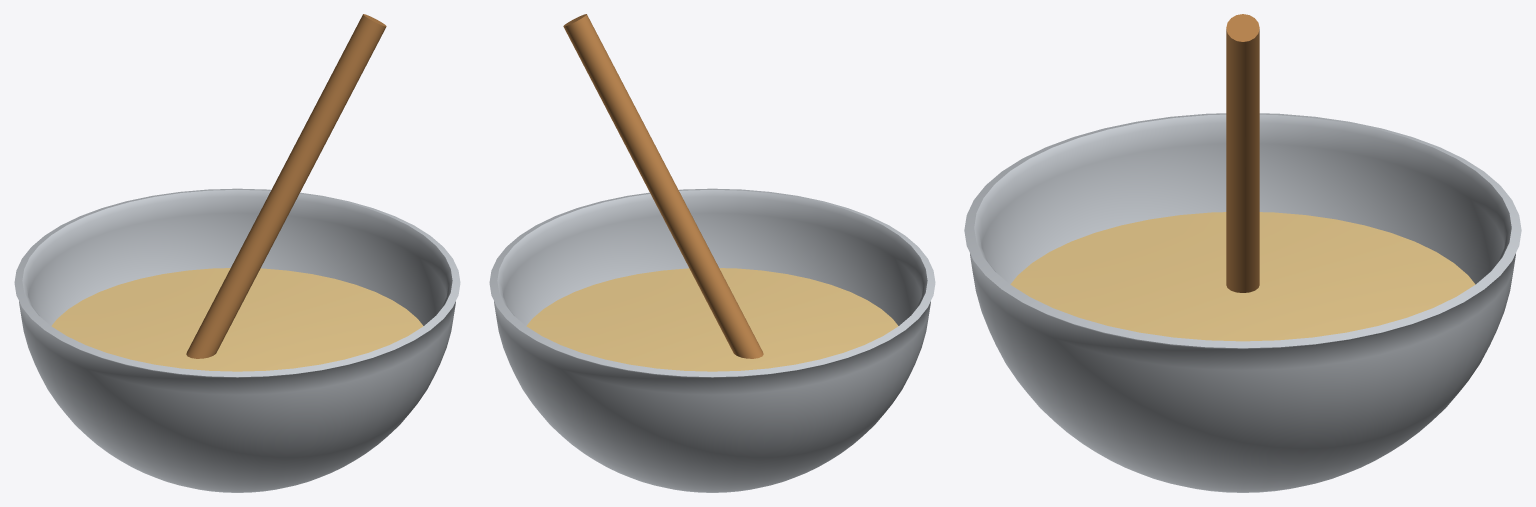
The model's file is Crepe_Batter_Bowl.fbx.
The picture shows the model from 3 angles, left to right: view 1: azimuth 30°, elevation 25°; view 2: azimuth 150°, elevation 25°; view 3: azimuth 270°, elevation 25°; orthographic projection. The views are drawn at different scales.
Parts seen in each view (by area): view 1: Crepe_Batter_Bowl; view 2: Crepe_Batter_Bowl; view 3: Crepe_Batter_Bowl.
Boxes of the visible parts, x1=… form: Crepe_Batter_Bowl: x1=14, y1=14, x2=460, y2=492; Crepe_Batter_Bowl: x1=489, y1=14, x2=935, y2=492; Crepe_Batter_Bowl: x1=964, y1=14, x2=1521, y2=492.
Size of the model in its own units: 0.183 by 0.1848 by 0.183.
